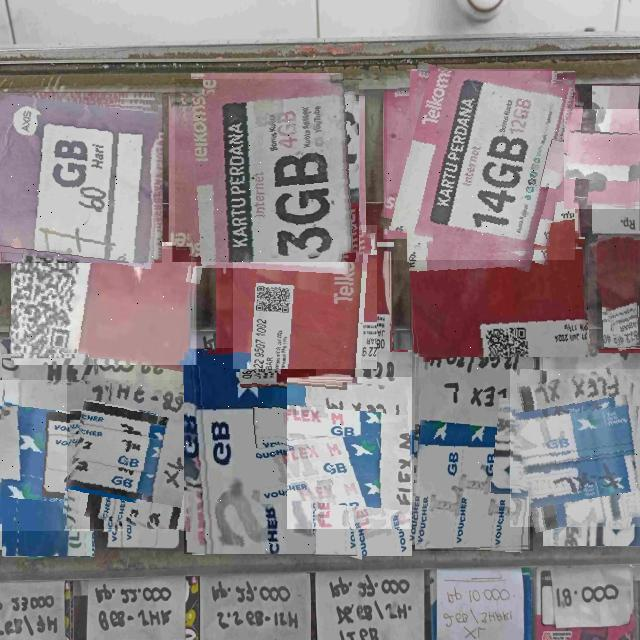Axis: (0, 93, 162, 263)
Gratis Nelpon: (184, 348, 316, 554), (412, 352, 533, 551), (287, 377, 440, 529), (67, 380, 216, 529), (510, 369, 640, 527), (0, 380, 124, 531)
Telkomsel: (387, 71, 575, 260), (175, 79, 359, 262), (12, 242, 200, 365), (410, 233, 588, 357), (233, 225, 377, 369), (564, 109, 640, 209), (597, 235, 640, 350)
